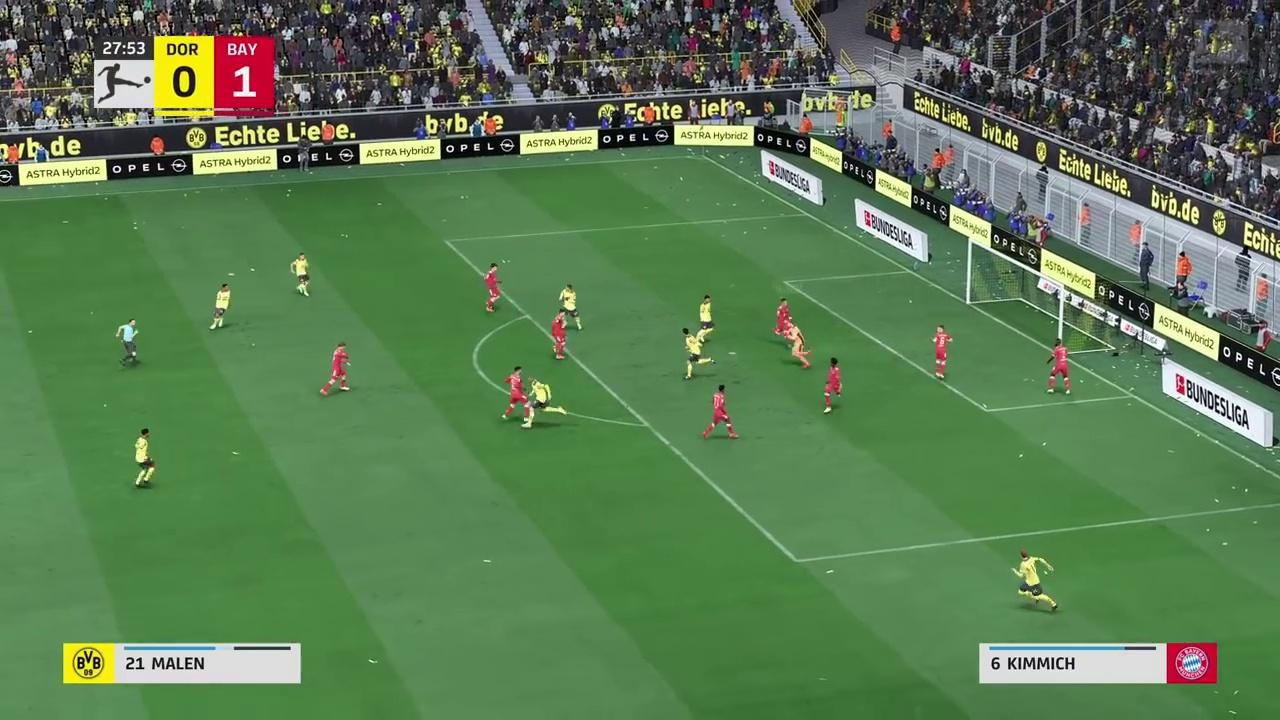scoreboard: (155, 32, 282, 118)
timestamp: (94, 39, 154, 58)
